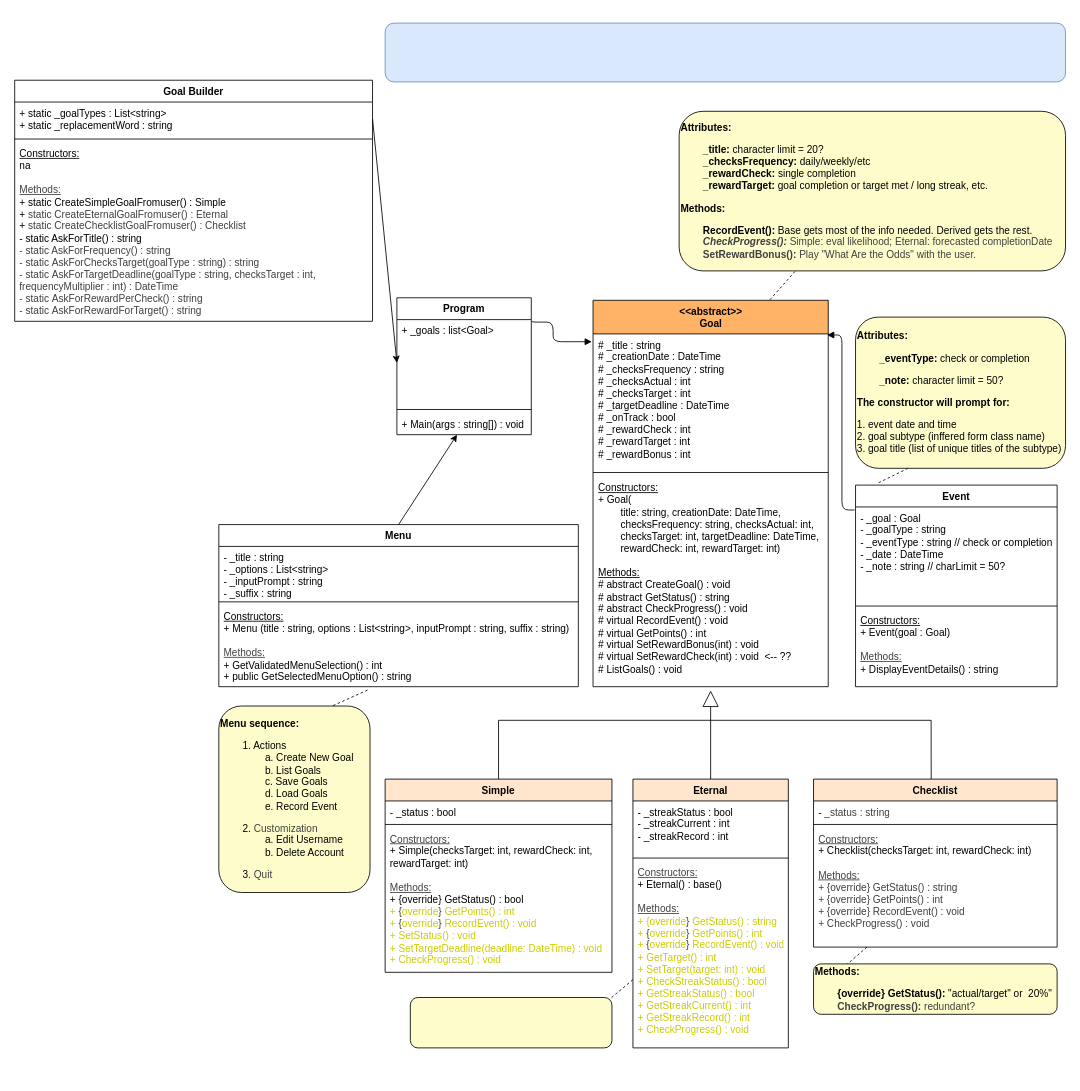
Some shapes in this 1080 by 1091 pixel diagram are drawn without their labels. Here are the shapes that lost their labels. From the top down, the centre of each, then its label:
the point at 725,52: Eternal Quest (Developer05)
the point at 511,1022: Methods: {override} GetStatus(): "2/10 = 20%"
